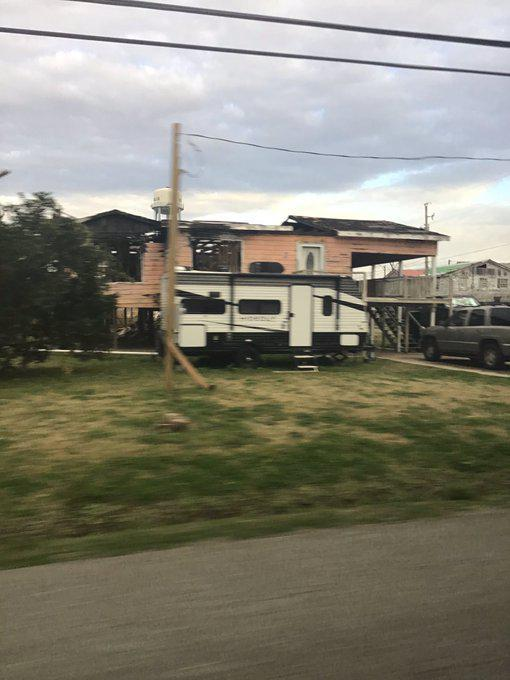major: (0, 202, 451, 332)
